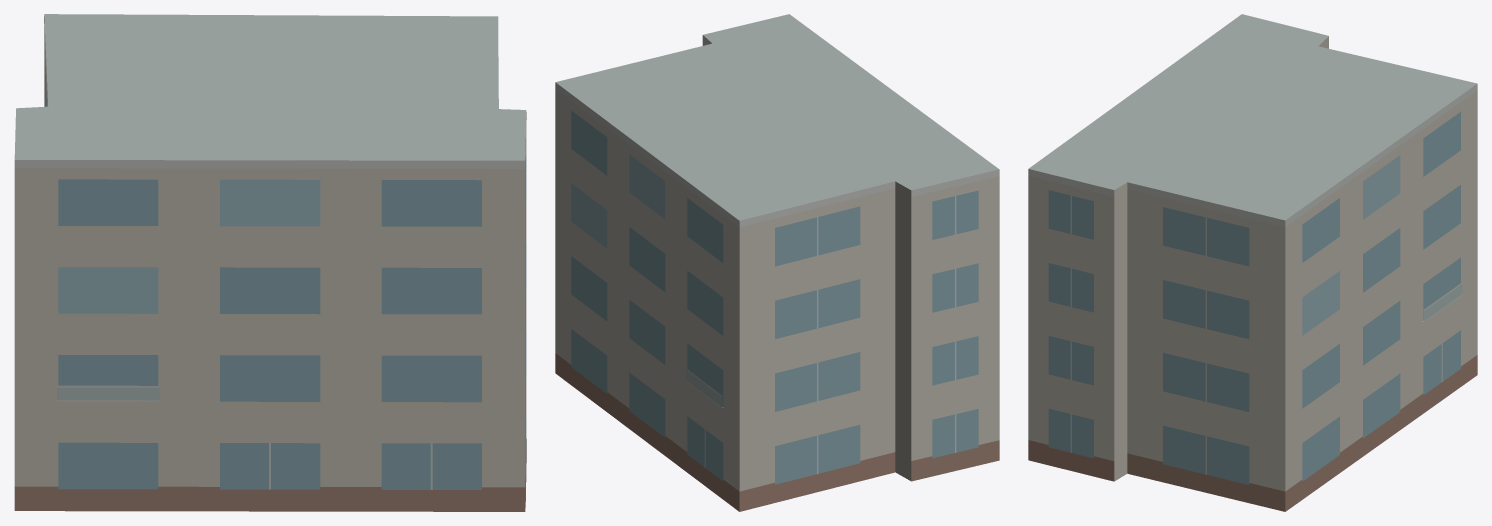
File: survey-upis-32597432.glb
3 views of the same model, side by side, from view 1: azimuth 30°, elevation 25°; view 2: azimuth 150°, elevation 25°; view 3: azimuth 270°, elevation 25° (orthographic). The views are drawn at different scales.
Visible parts, largest first — view 1: survey-upis-32597432.tmp; view 2: survey-upis-32597432.tmp; view 3: survey-upis-32597432.tmp.
Part boxes in pixels (<box>): survey-upis-32597432.tmp: <box>14,14,526,511</box>; survey-upis-32597432.tmp: <box>555,14,999,511</box>; survey-upis-32597432.tmp: <box>1028,14,1477,511</box>.
Size of the model in its own units: 16.04 by 10.55 by 14.75.
